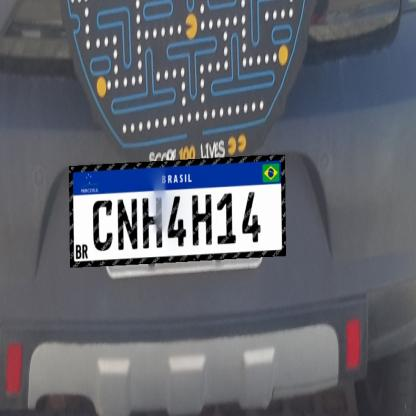PlacaM: (69, 154, 286, 268)
